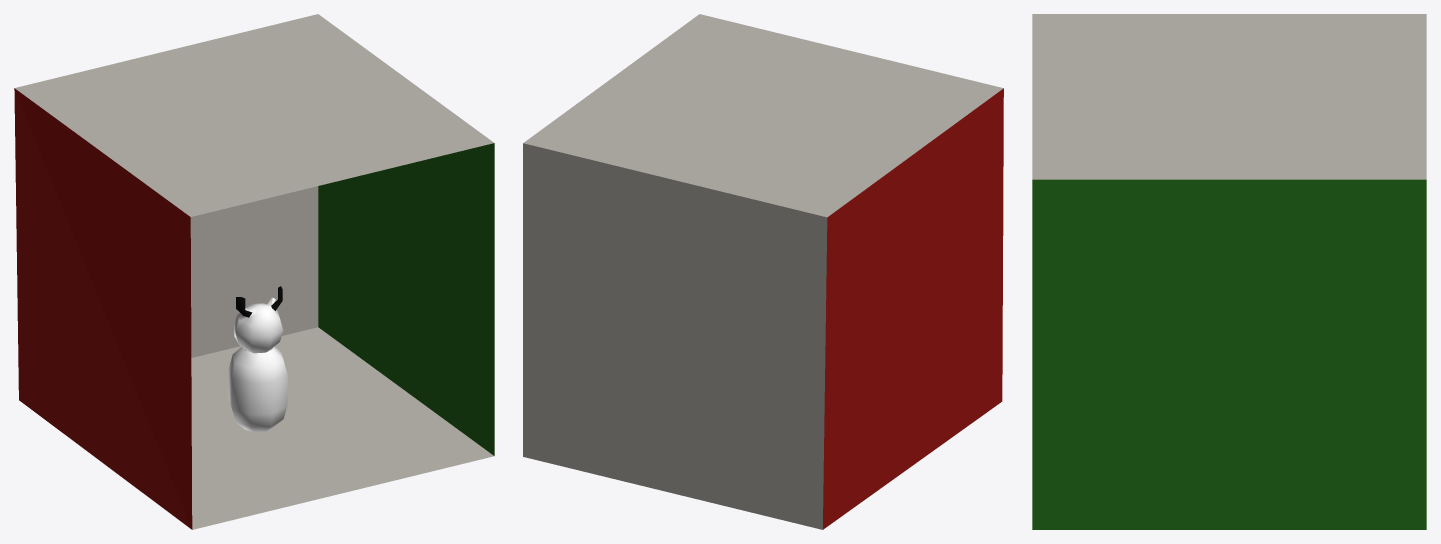
File: Room.obj
3 renders of one model, left to right at view 1: azimuth 30°, elevation 25°; view 2: azimuth 150°, elevation 25°; view 3: azimuth 270°, elevation 25°, orthographic. The views are drawn at different scales.
Parts seen in each view (by area): view 1: leftWall, ceiling, rightWall, floor, backWall, sphere1; view 2: backWall, leftWall, ceiling; view 3: rightWall, ceiling.
Boxes of the visible parts, x1,y1,x2,y2 form: leftWall: (14,88,192,529); ceiling: (15,14,493,216); rightWall: (318,143,494,455); floor: (191,327,493,529); backWall: (190,186,318,357); sphere1: (228,286,287,432); backWall: (523,143,827,529); leftWall: (823,88,1003,529); ceiling: (523,14,1003,217); rightWall: (1032,179,1426,529); ceiling: (1032,14,1426,179).
Size of the model in its own units: 2.02 by 1.99 by 2.03.
